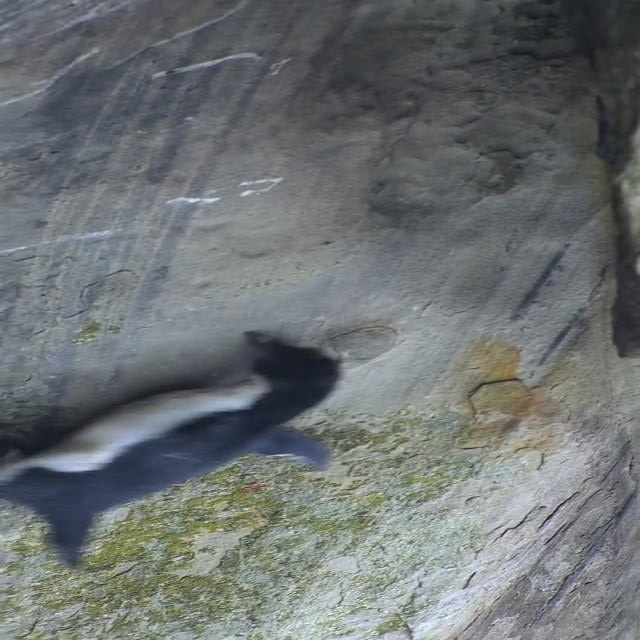penguin: (1, 330, 339, 569)
